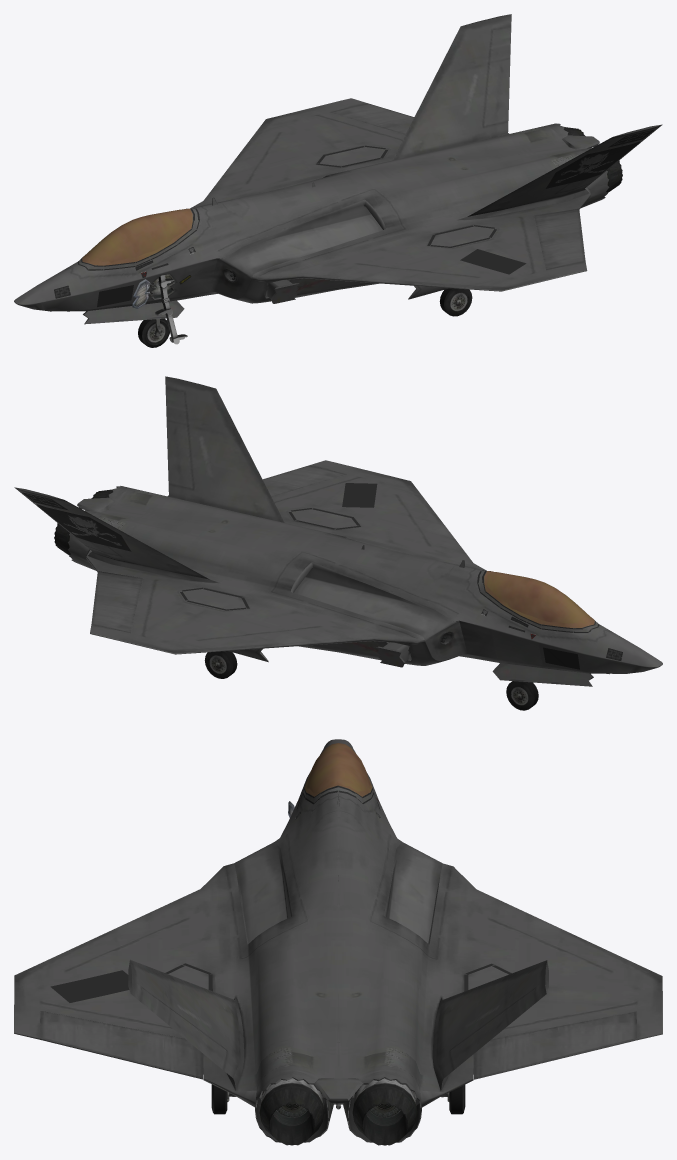
The picture shows the model from 3 angles, top to bottom: view 1: azimuth 30°, elevation 25°; view 2: azimuth 150°, elevation 25°; view 3: azimuth 270°, elevation 25°; orthographic projection. The views are drawn at different scales.
Parts seen in each view (by area): view 1: Object_2, Object_14, Object_12, Object_11, Object_20, Object_6, Object_8; view 2: Object_2, Object_14, Object_12, Object_11, Object_20, Object_6, Object_8; view 3: Object_2, Object_14, Object_11.
Boxes of the visible parts, x1=… form: Object_2: x1=14, y1=14, x2=662, y2=347; Object_14: x1=84, y1=209, x2=189, y2=262; Object_12: x1=54, y1=130, x2=653, y2=298; Object_11: x1=97, y1=145, x2=526, y2=307; Object_20: x1=77, y1=208, x2=199, y2=270; Object_6: x1=82, y1=208, x2=192, y2=265; Object_8: x1=78, y1=208, x2=199, y2=270; Object_2: x1=14, y1=376, x2=662, y2=710; Object_14: x1=487, y1=571, x2=592, y2=623; Object_12: x1=22, y1=492, x2=622, y2=660; Object_11: x1=180, y1=483, x2=579, y2=669; Object_20: x1=477, y1=570, x2=599, y2=633; Object_6: x1=484, y1=571, x2=594, y2=627; Object_8: x1=477, y1=570, x2=598, y2=632; Object_2: x1=14, y1=739, x2=662, y2=1145; Object_14: x1=306, y1=743, x2=370, y2=793; Object_11: x1=50, y1=963, x2=511, y2=1002.
Size of the model in its own units: 2.5 by 0.7058 by 1.75.
Materials: 13 (11 with a texture image).
